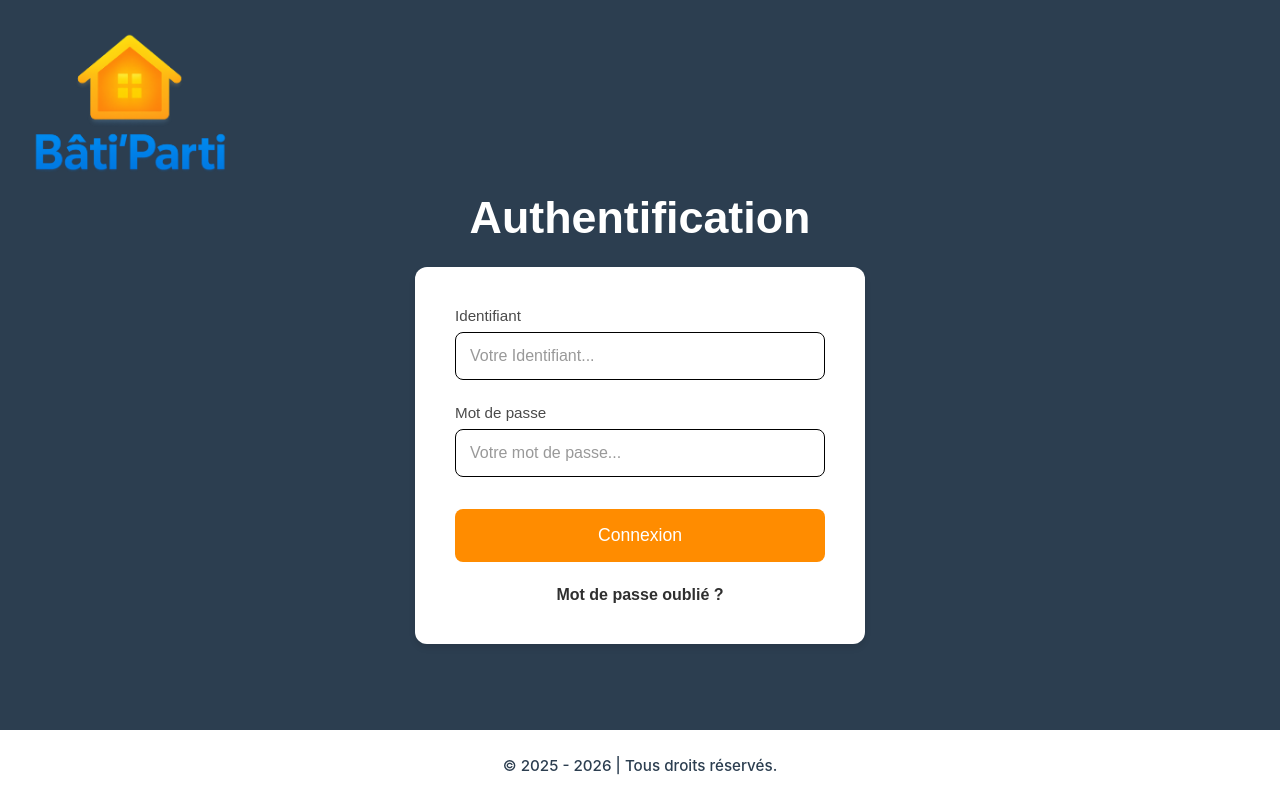
Test: Page de connexion › affiche un message d'erreur si identifiants invalides
The width and height of the screenshot is (1280, 800).
Note: Rempli les champs identifiants et mot de passe avec des valeurs de tests
Type "fakeUser" into the field with placeholder "Votre Identifiant...".
click(640, 356); type("fakeUser")  # box [455, 332, 825, 380]
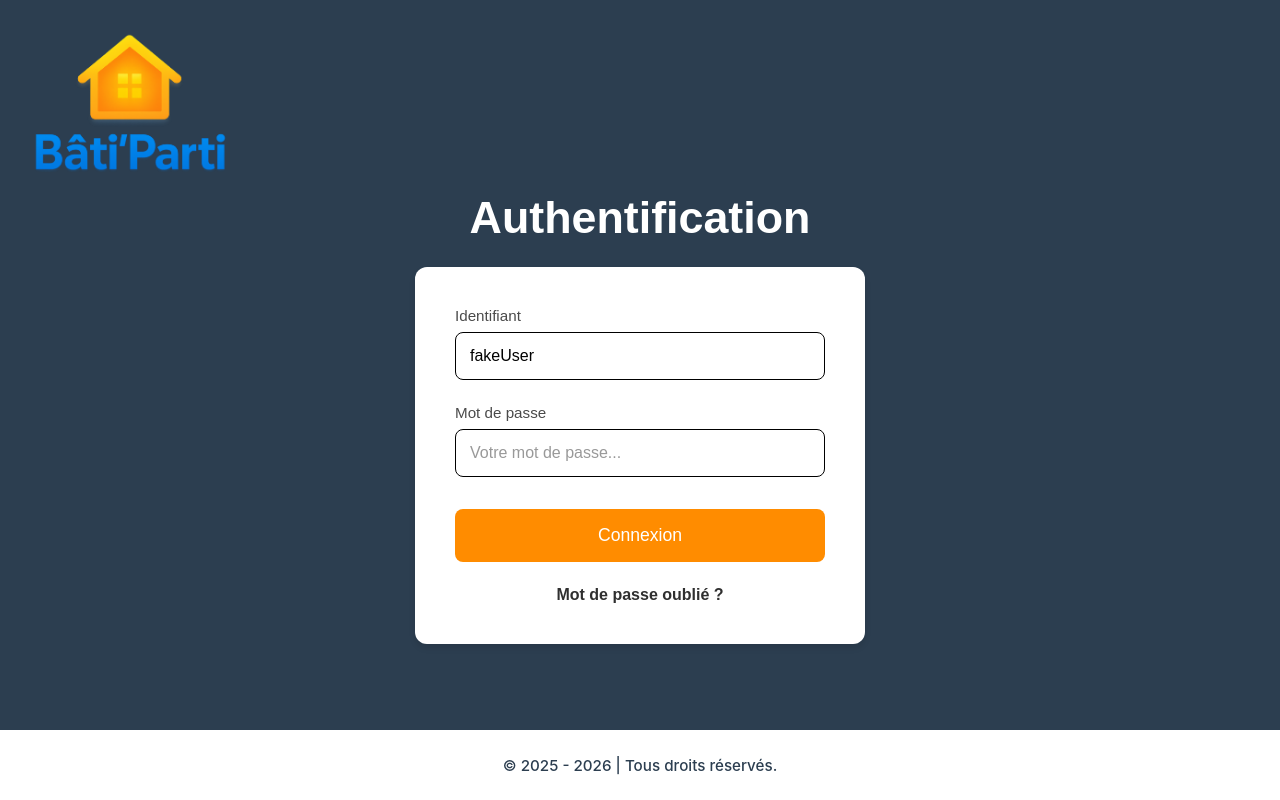
Type "wrongpass" into the password field with placeholder "Votre mot de passe...".
click(640, 453); type("wrongpass")  # box [455, 429, 825, 477]
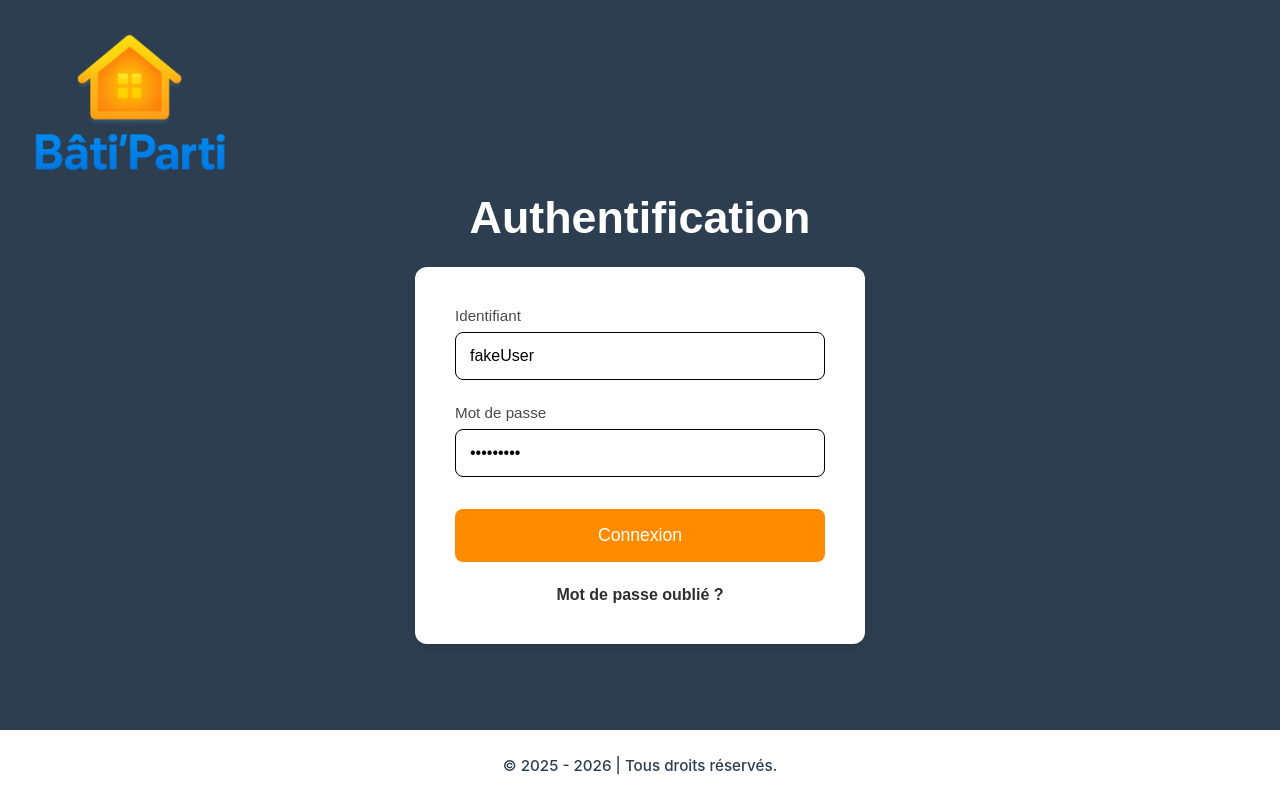
Note: Simule un click sur le bouton connexion
Click the button "Connexion".
click(640, 536)  # box [455, 509, 825, 562]
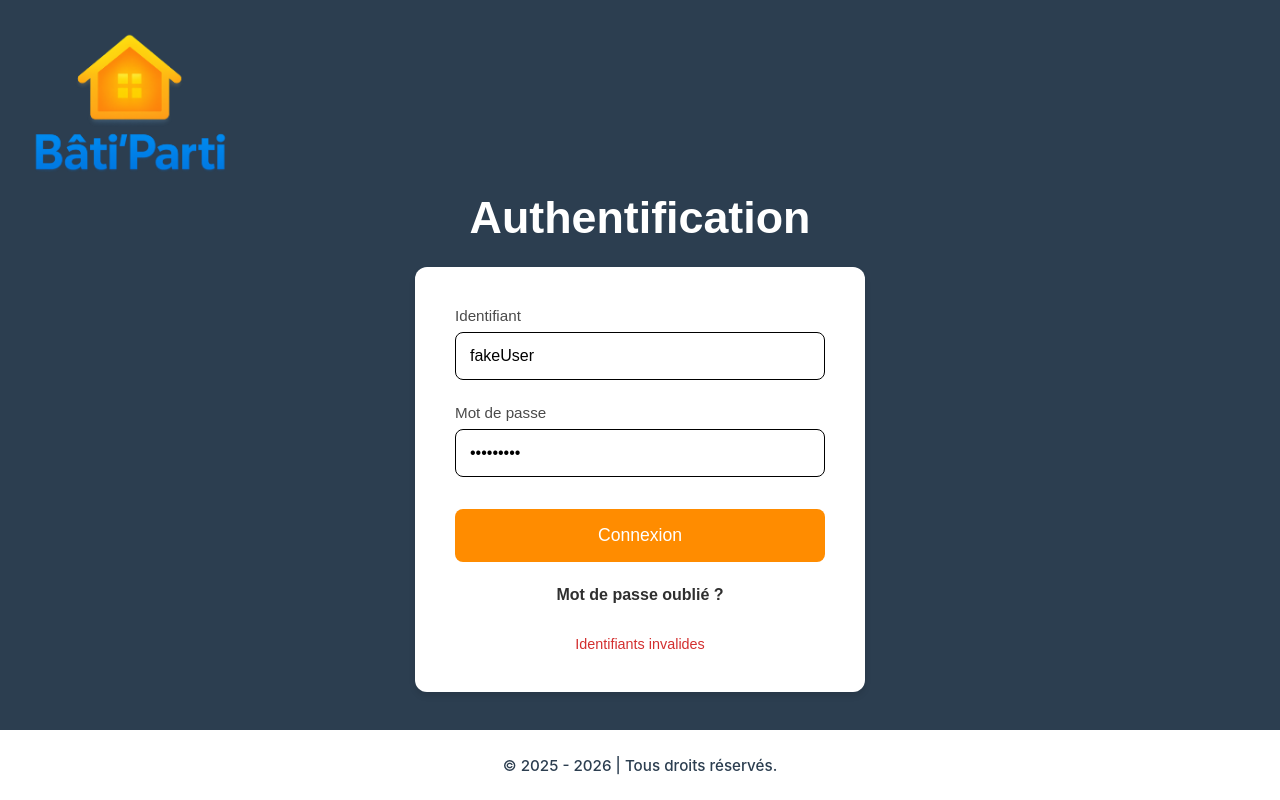
Check: the text "Identifiants invalides" is shown, box [575, 636, 705, 652]
